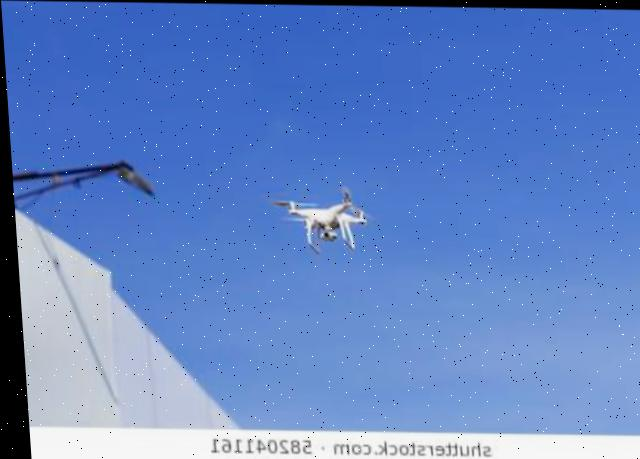drone: (267, 179, 380, 254)
